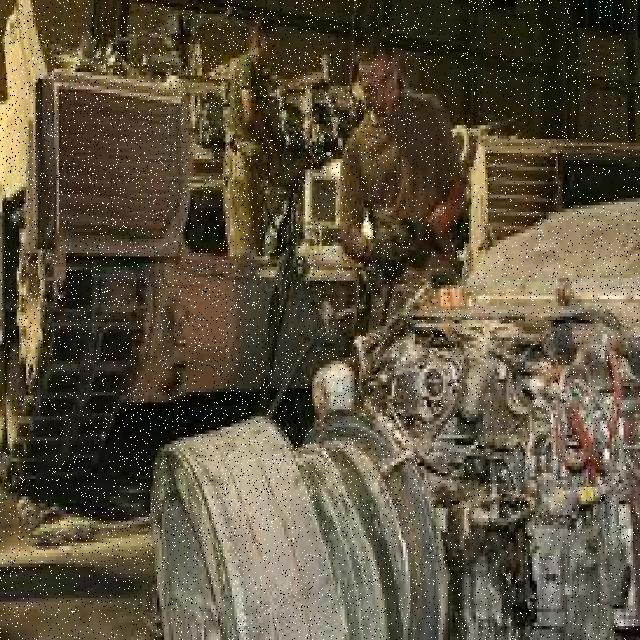MIL_MBT: (7, 16, 411, 540)
